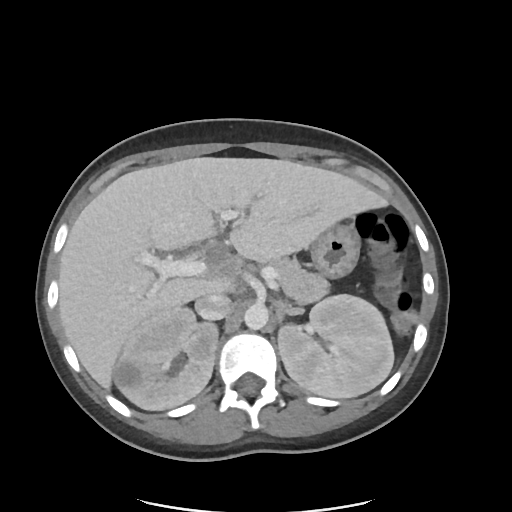Lesion: (109, 361, 148, 393)
